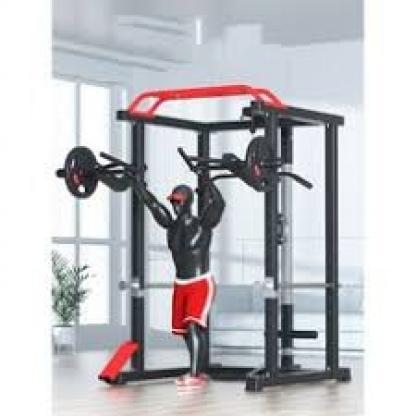smith machine: (117, 86, 353, 395)
